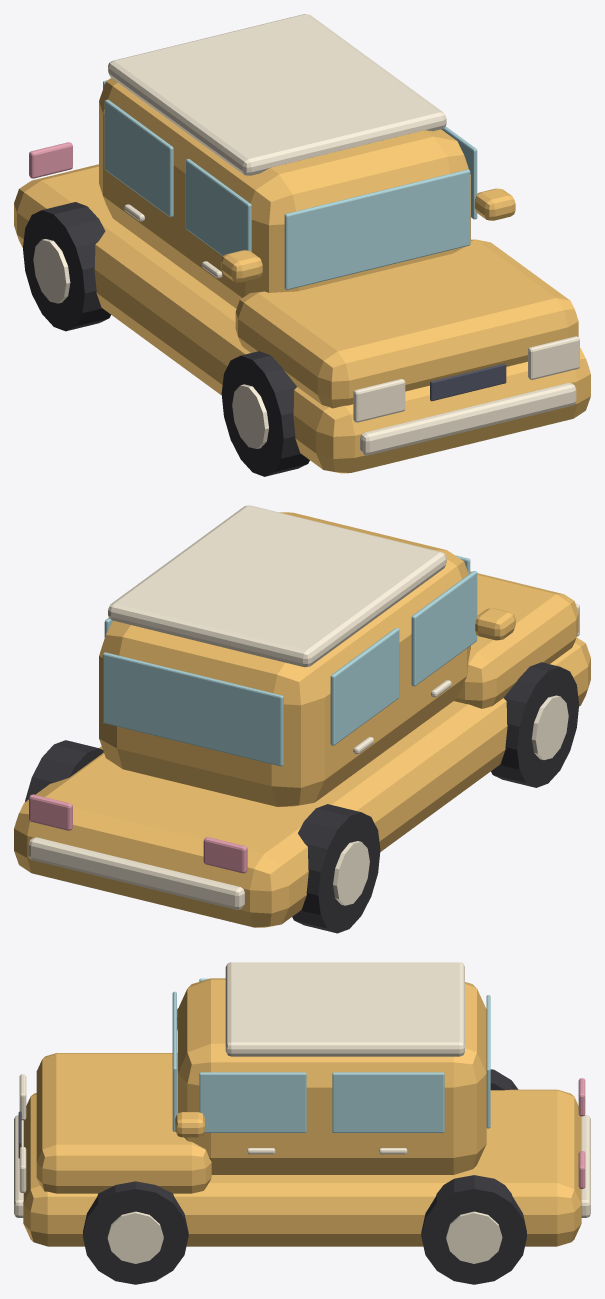
Rendered from car_sunshine.glb.
3 renders of one model, top to bottom at view 1: azimuth 30°, elevation 25°; view 2: azimuth 150°, elevation 25°; view 3: azimuth 270°, elevation 25°, orthographic. The views are drawn at different scales.
Visible parts, largest first — view 1: car_sunshine_Mesh; view 2: car_sunshine_Mesh; view 3: car_sunshine_Mesh.
Part boxes in pixels (left/top/right/bottom): car_sunshine_Mesh: left=14, top=14, right=590, bottom=476; car_sunshine_Mesh: left=14, top=505, right=590, bottom=933; car_sunshine_Mesh: left=14, top=962, right=590, bottom=1284.
Bounding box in the file's own units: 1.95 × 1.6 × 3.77.
